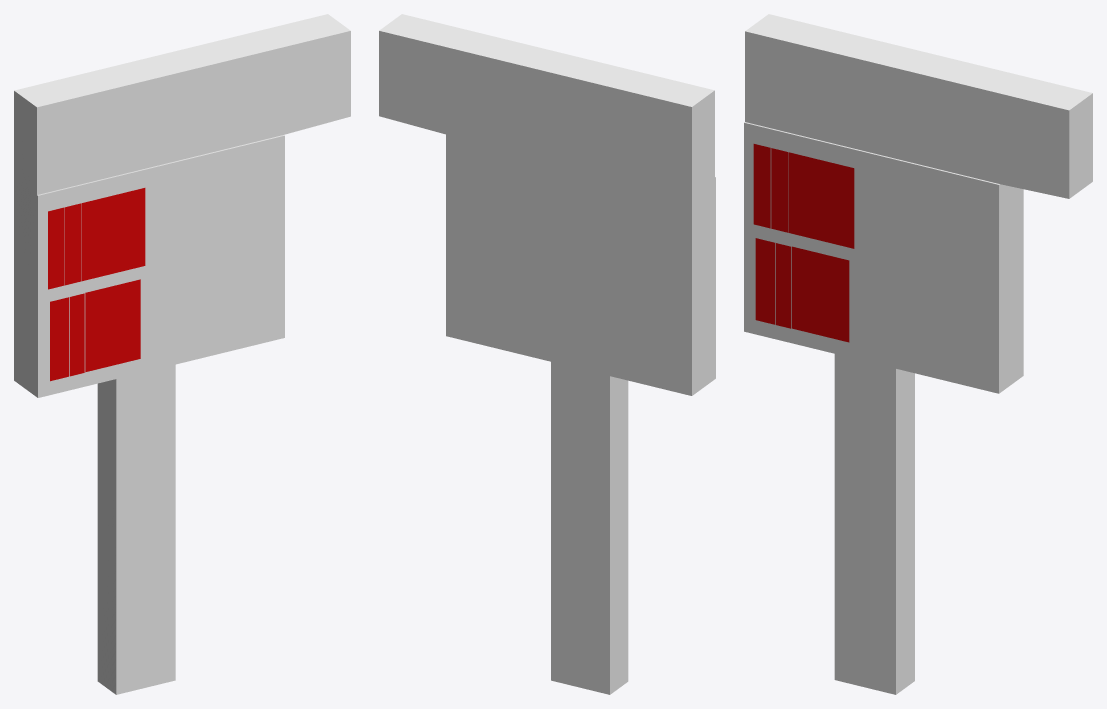
The model's file is s_torres_tires_sign_001.dae.
The picture shows the model from 3 angles, left to right: view 1: azimuth 30°, elevation 25°; view 2: azimuth 150°, elevation 25°; view 3: azimuth 330°, elevation 25°; orthographic projection. The views are drawn at different scales.
Visible parts, largest first — view 1: Colmesh_s_torres_tires_sign_001-1, s_torres_tires_sign_001_L60; view 2: Colmesh_s_torres_tires_sign_001-1, s_torres_tires_sign_001_L60; view 3: Colmesh_s_torres_tires_sign_001-1, s_torres_tires_sign_001_L60.
Part boxes in pixels (x1=…): Colmesh_s_torres_tires_sign_001-1: x1=14, y1=14, x2=350, y2=694; s_torres_tires_sign_001_L60: x1=15, y1=135, x2=284, y2=397; Colmesh_s_torres_tires_sign_001-1: x1=379, y1=14, x2=714, y2=694; s_torres_tires_sign_001_L60: x1=693, y1=177, x2=715, y2=394; Colmesh_s_torres_tires_sign_001-1: x1=745, y1=14, x2=1092, y2=694; s_torres_tires_sign_001_L60: x1=744, y1=122, x2=999, y2=393.
Size of the model in its own units: 4.91 by 0.6594 by 9.13.
